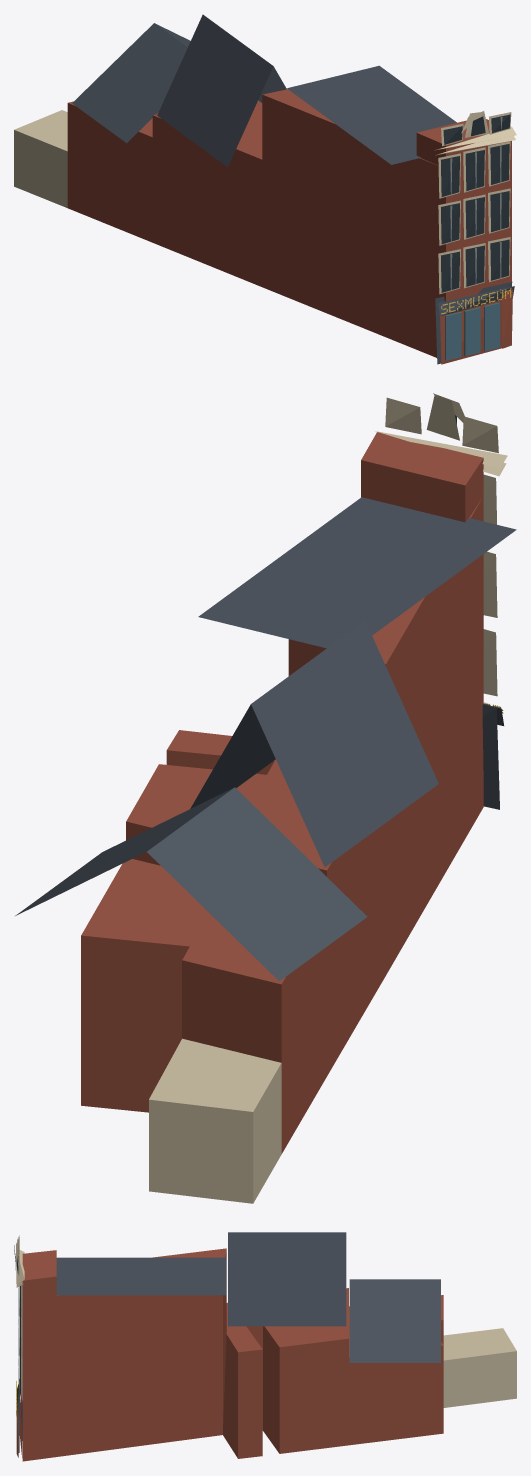
The model's file is sexmuseum-venustempel.lod1.glb.
3 views of the same model, one above another, from view 1: azimuth 30°, elevation 25°; view 2: azimuth 150°, elevation 25°; view 3: azimuth 270°, elevation 25° (orthographic). The views are drawn at different scales.
Visible parts, largest first — view 1: sexmuseum-venustempel; view 2: sexmuseum-venustempel; view 3: sexmuseum-venustempel.
Boxes of the visible parts, <box> form: sexmuseum-venustempel: <box>14,14,516,364</box>; sexmuseum-venustempel: <box>15,393,516,1203</box>; sexmuseum-venustempel: <box>14,1232,516,1461</box>.
Bounding box in the file's own units: 15.99 × 17.68 × 39.32.
